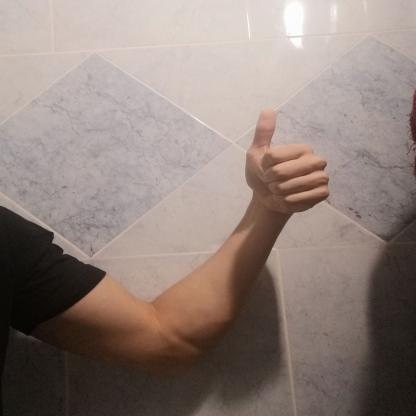ALIF: (222, 96, 348, 222)
